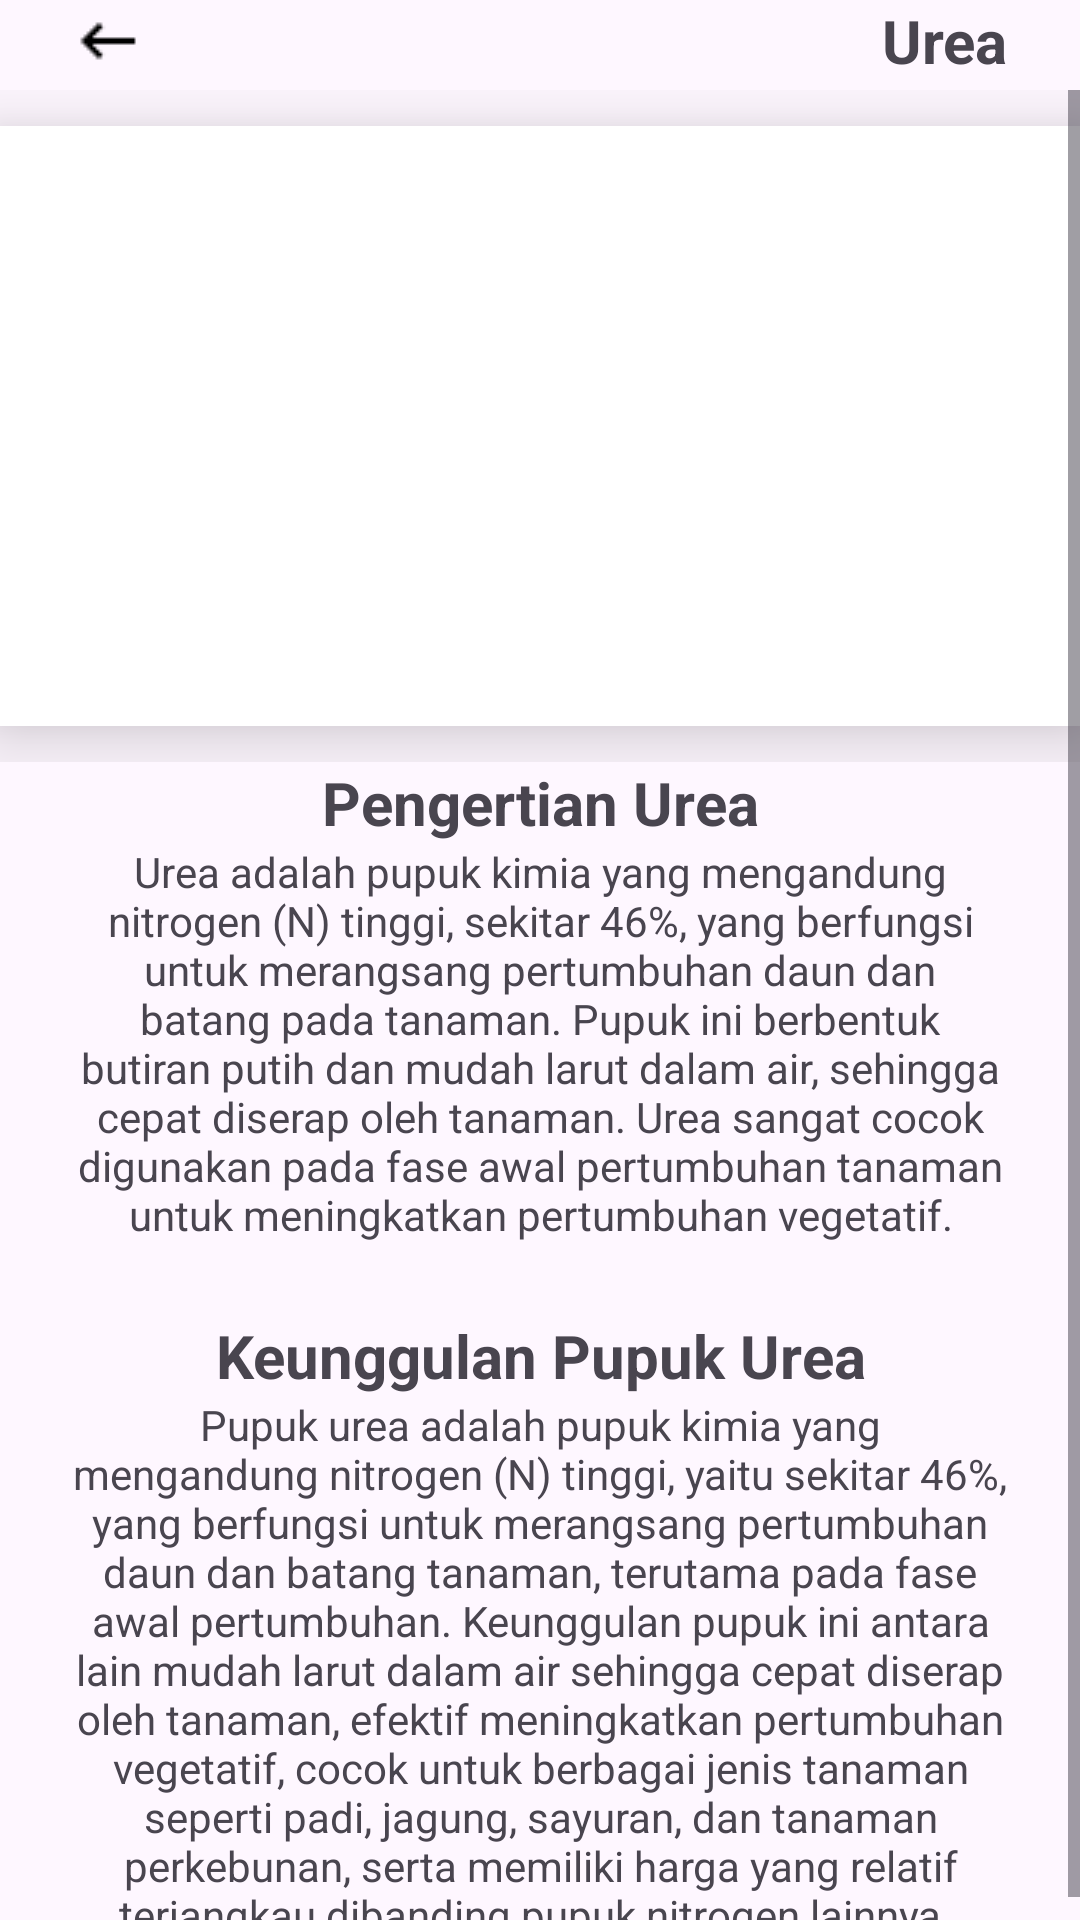

Named icons in this screenshot (1080×1920) and their centers, [x,y]:
keyboard backspace: [108,41]
